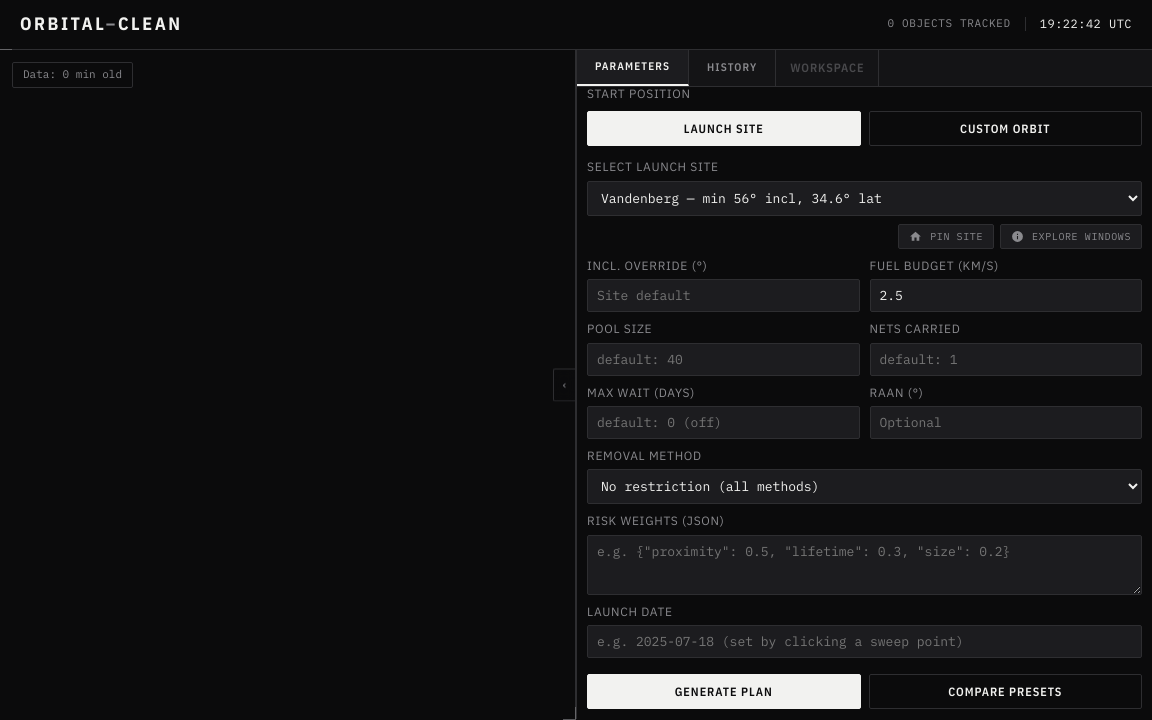
Test: 6. Workspace ✕ — empty state; history entry persists › close button returns to placeholder; tab stays in Section 2
The width and height of the screenshot is (1152, 720).
(page scrolled)
Click the button "Generate plan": (724, 692) [587, 674, 860, 709]
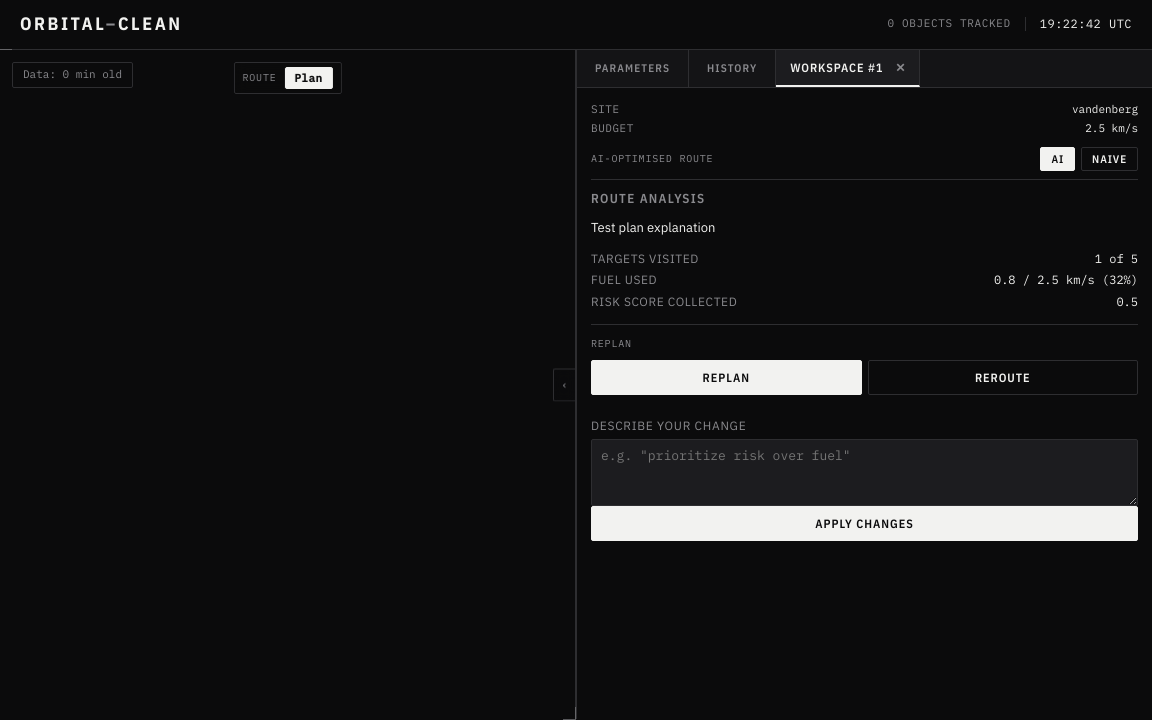
Expected: the text with test id "workspace-title" reads "Workspace #1", [790, 59, 883, 76]
Click the button with test id "workspace-close-btn": (897, 68) [889, 62, 905, 74]
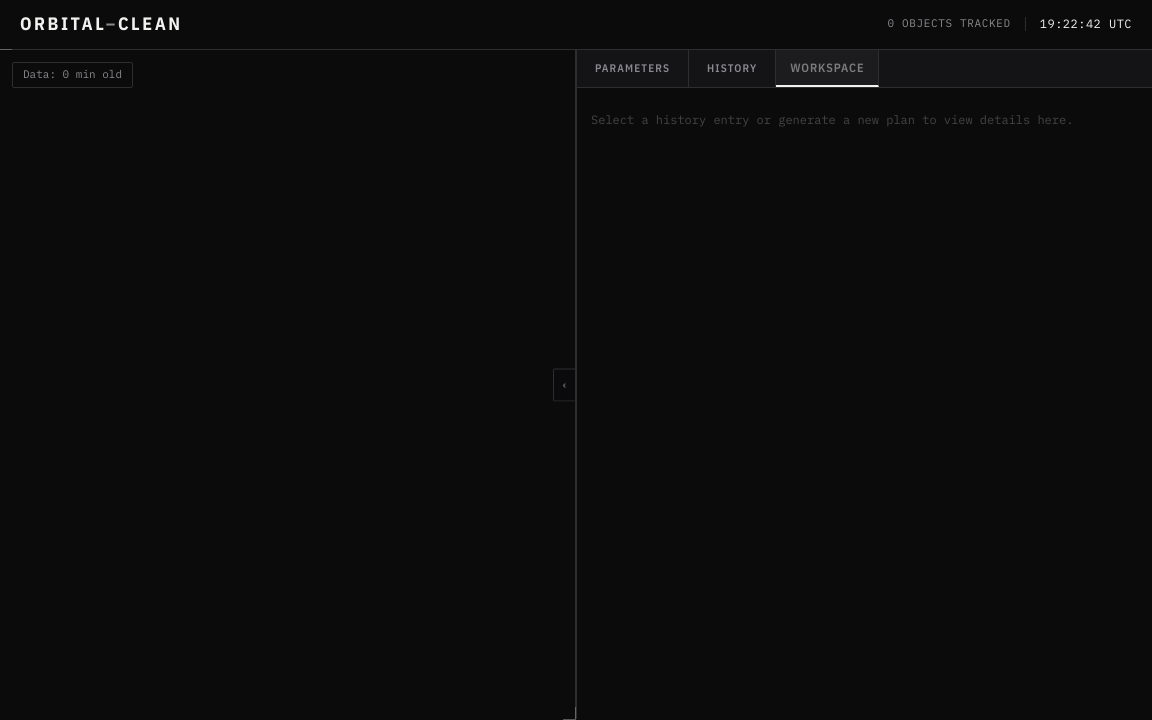
Expected: the text with test id "workspace-title" reads "Workspace", [790, 60, 864, 75]
Expected: the text with test id "workspace-empty-label" is shown, [591, 112, 1073, 128]
Expected: the button with test id "workspace-close-btn" is gone
Click the tab with test id "panel-tab-history": (733, 69) [689, 50, 776, 88]
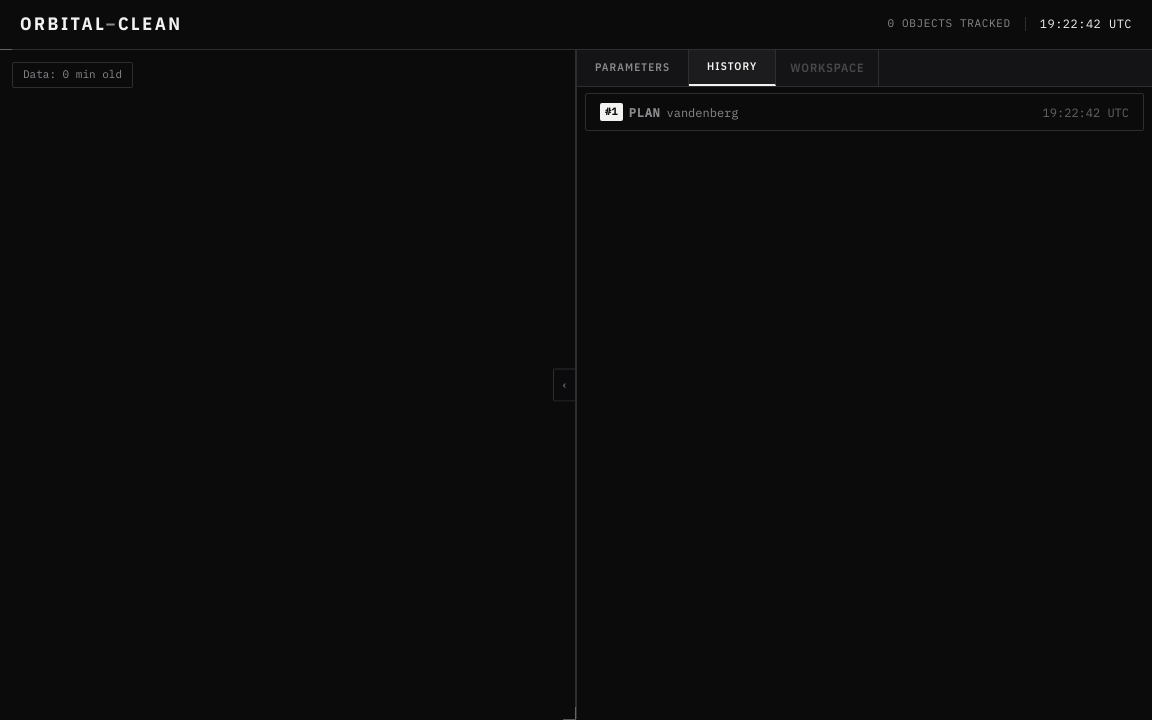
Expected: the button with test id "history-tab-1" is shown, [585, 93, 1144, 131]
